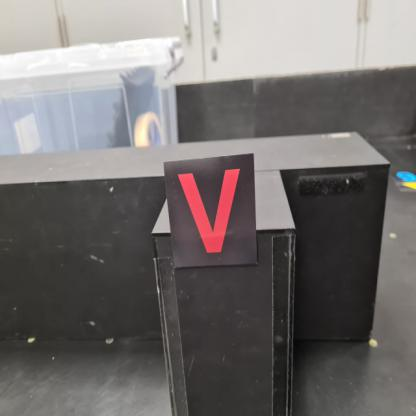v: (162, 151, 261, 267)
